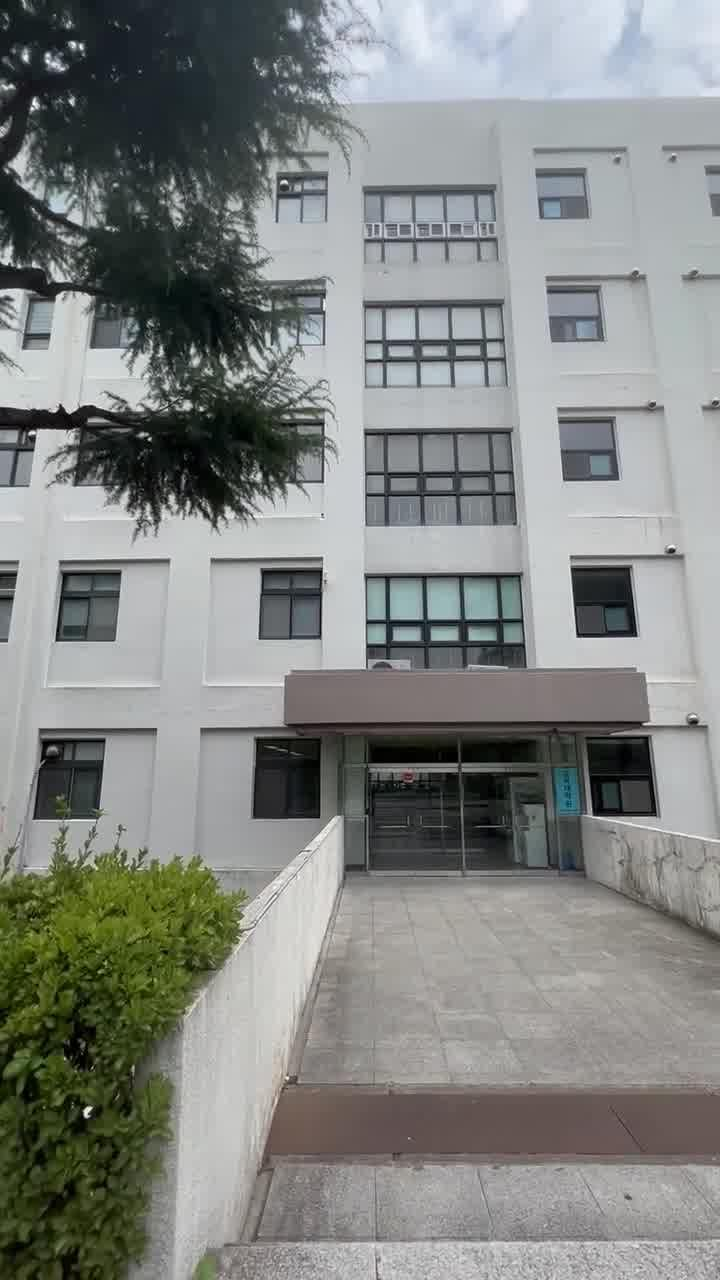building: (300, 132, 720, 866)
